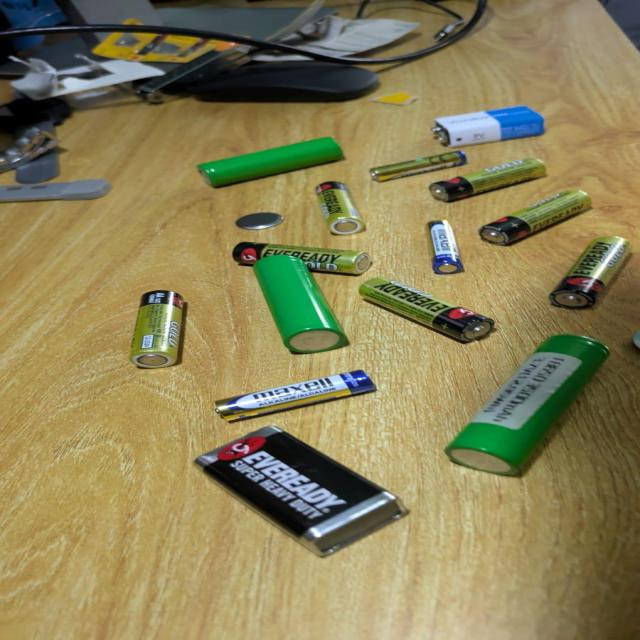9V: (192, 425, 408, 556), (431, 105, 545, 148)
AA: (359, 276, 498, 341), (474, 187, 590, 245), (546, 237, 634, 310), (427, 158, 548, 203), (232, 240, 374, 274), (129, 291, 186, 368), (314, 182, 367, 236)
AAA: (202, 362, 385, 428), (355, 147, 479, 188), (422, 212, 475, 278)
COIN: (233, 212, 285, 231)
